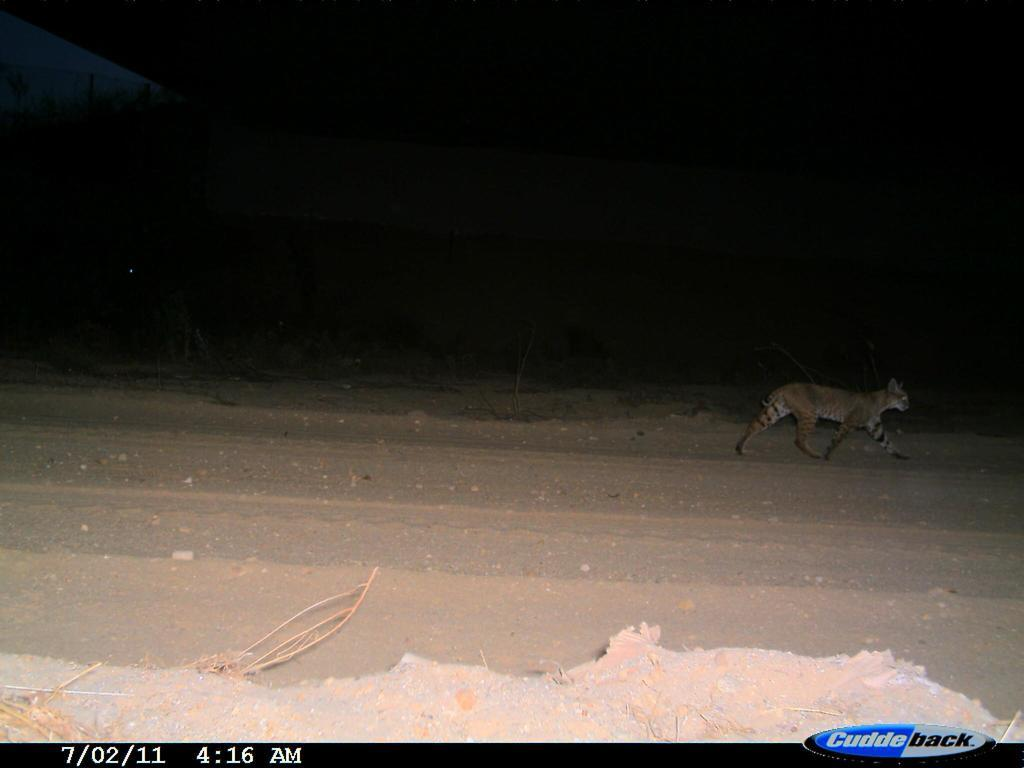bobcat: (731, 364, 931, 501)
